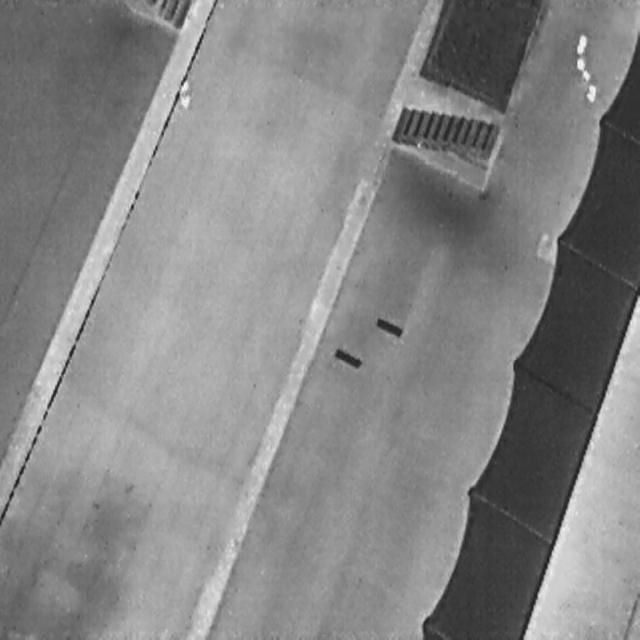Person: (177, 78, 192, 110)
